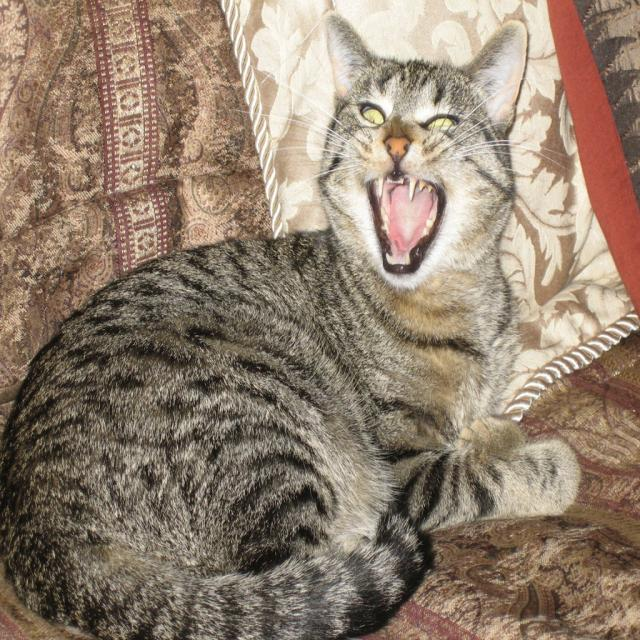Cat: (0, 5, 582, 638)
